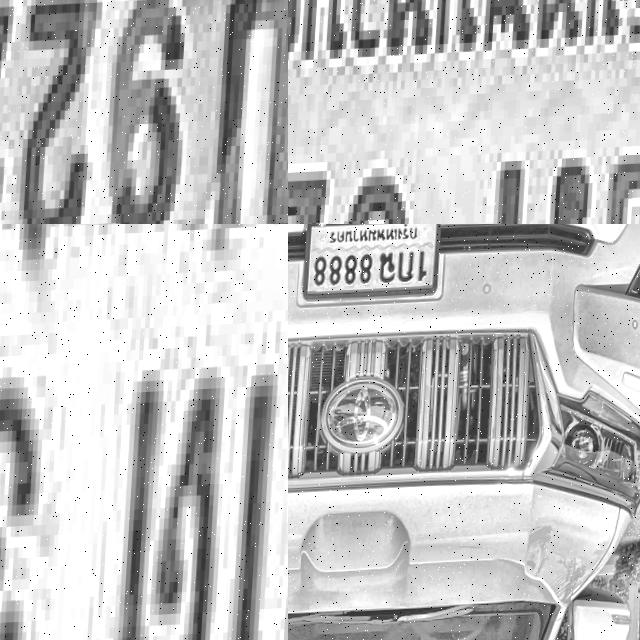license-plate: (0, 224, 288, 640), (288, 0, 640, 224), (0, 0, 288, 224), (301, 224, 445, 310)
